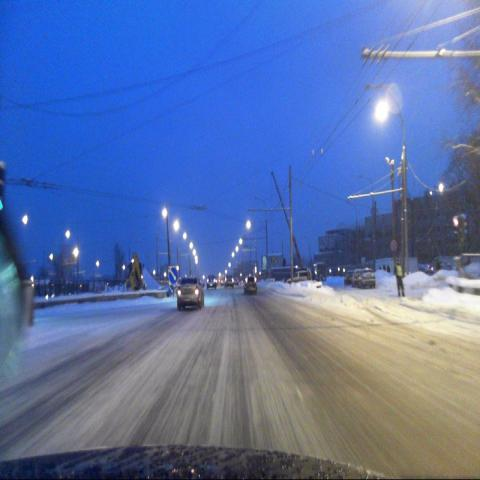4_2_1: (168, 267, 178, 285)
